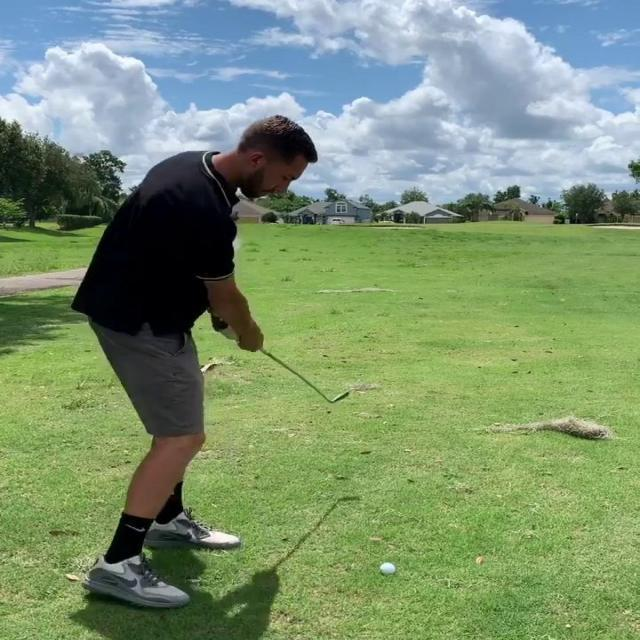ClubHead: (330, 389, 350, 404)
GolfBall: (378, 562, 396, 576)
